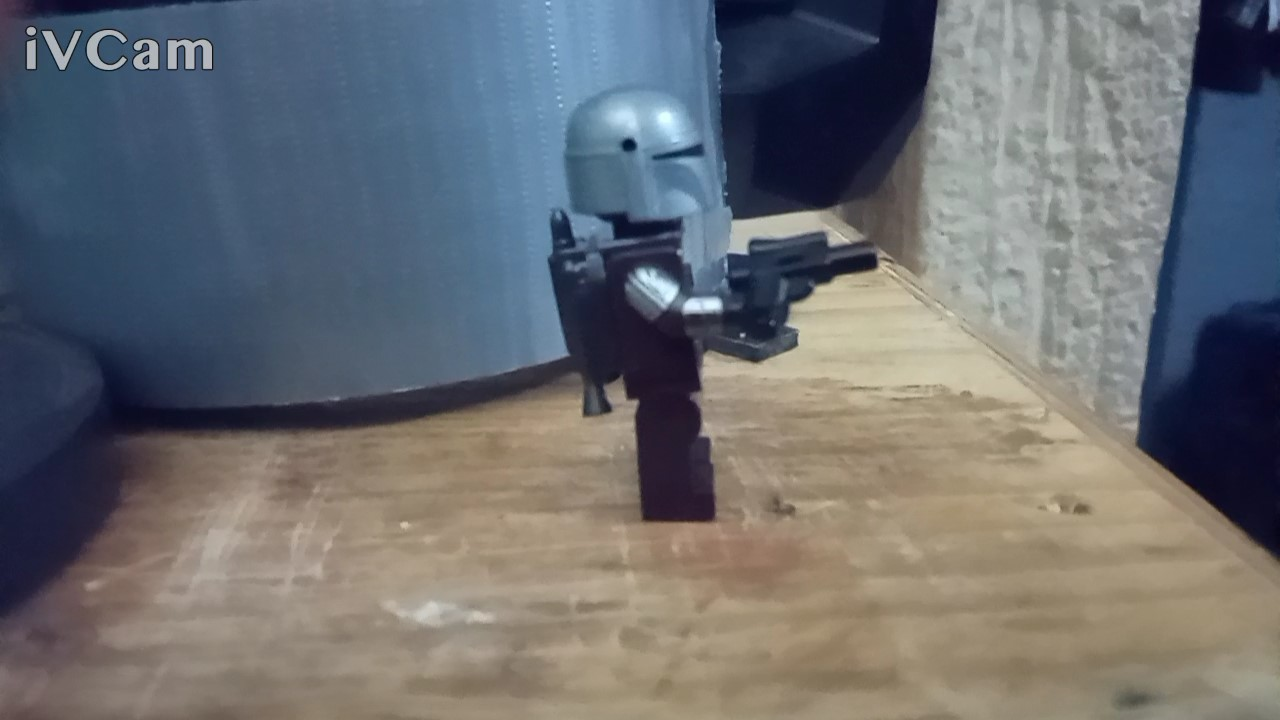mandalorian: (528, 73, 894, 551)
